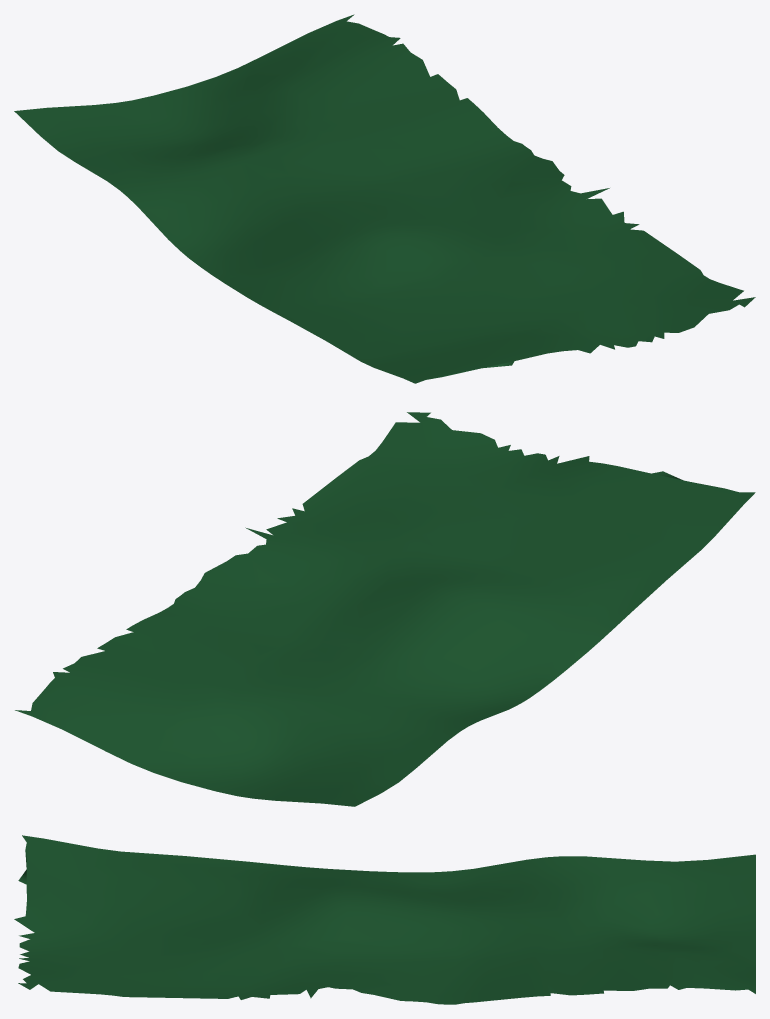
The model's file is payo_land_x4_ym3_lod1.glb.
The picture shows the model from 3 angles, top to bottom: view 1: azimuth 30°, elevation 25°; view 2: azimuth 150°, elevation 25°; view 3: azimuth 270°, elevation 25°; orthographic projection. The views are drawn at different scales.
Parts seen in each view (by area): view 1: payo_land_x4_ym3; view 2: payo_land_x4_ym3; view 3: payo_land_x4_ym3.
Boxes of the visible parts, x1=… form: payo_land_x4_ym3: x1=14, y1=14, x2=755, y2=383; payo_land_x4_ym3: x1=15, y1=412, x2=755, y2=806; payo_land_x4_ym3: x1=14, y1=835, x2=755, y2=1004.
Size of the model in its own units: 131 by 16.06 by 259.
